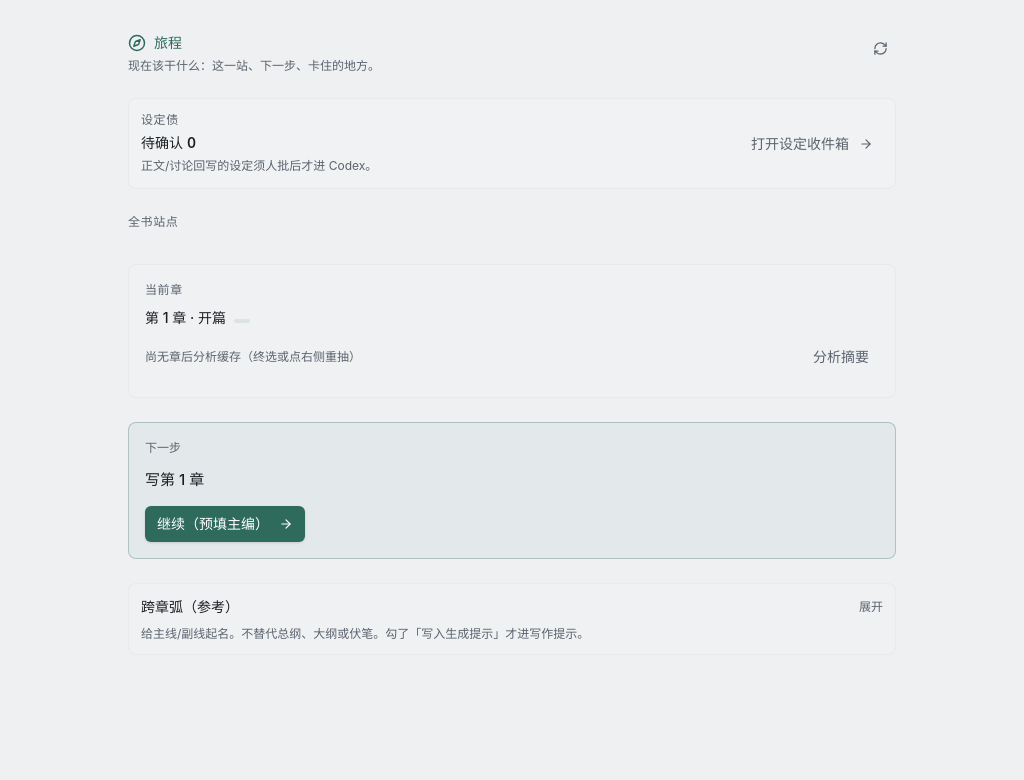
it: 作者面去重叠 › 旅程底部挂跨章弧参考，不叫全局规划
This screenshot has width=1024, height=780.
expect the element with test id "journey-view" is shown: met, box [128,32,896,655]
expect the element with test id "journey-arcs" is shown: met, box [128,583,896,655]
Click the button with test id "journey-arcs-toggle" at (190, 607), box [141,596,883,618]
(page scrolled)
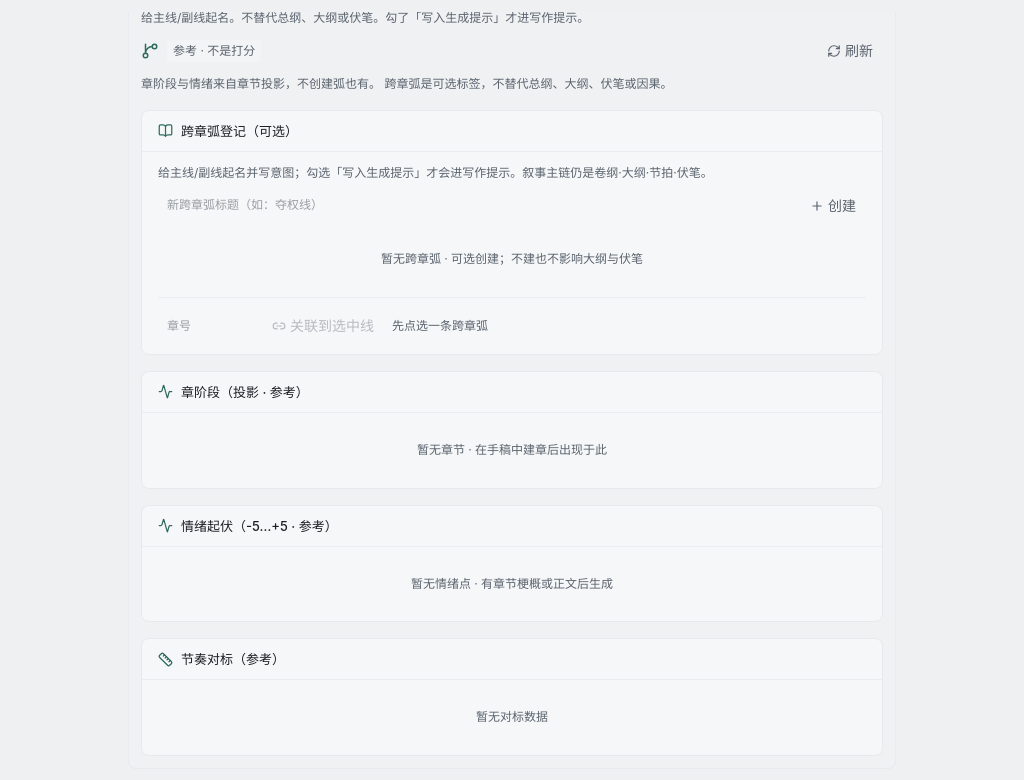
expect the element with test id "storyline-hub" is shown: met
